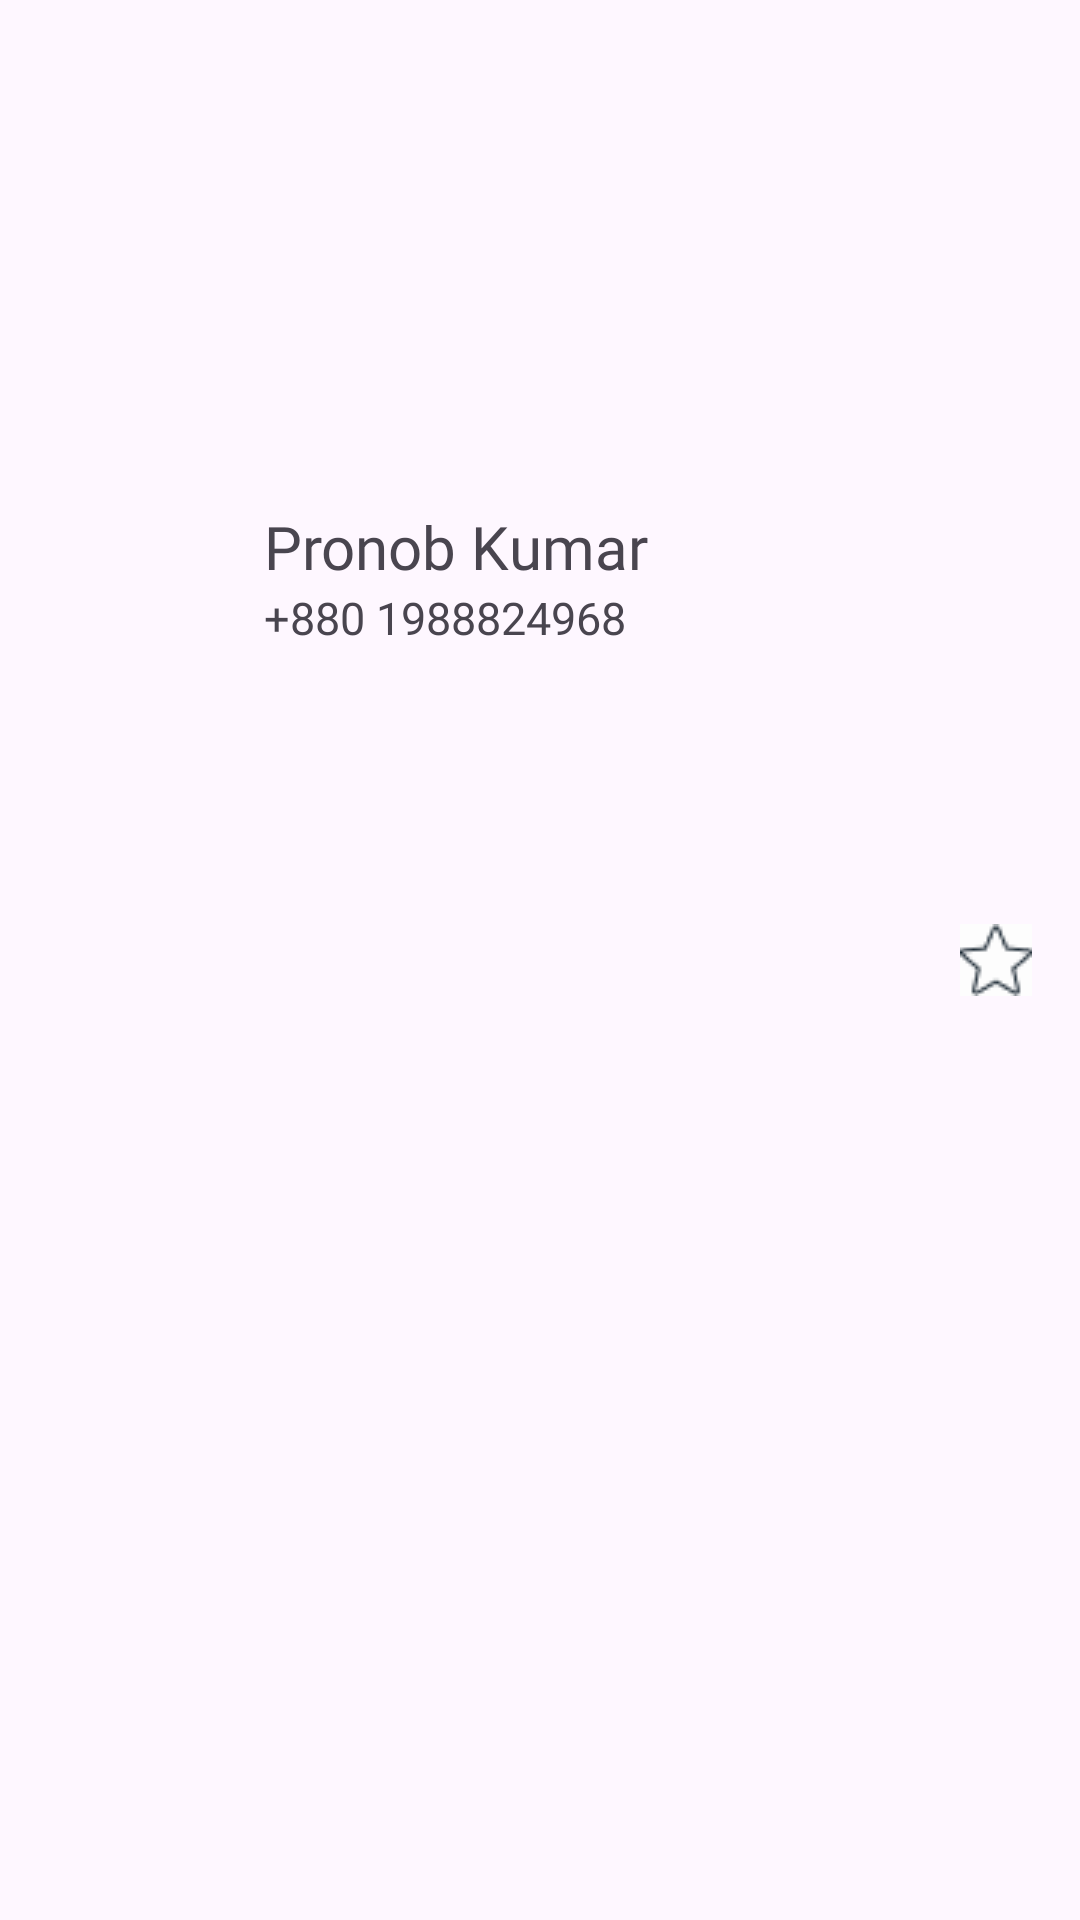

Where to tap for icons on this 1080×1920 app screen, as (x,y):
star: (996,960)
